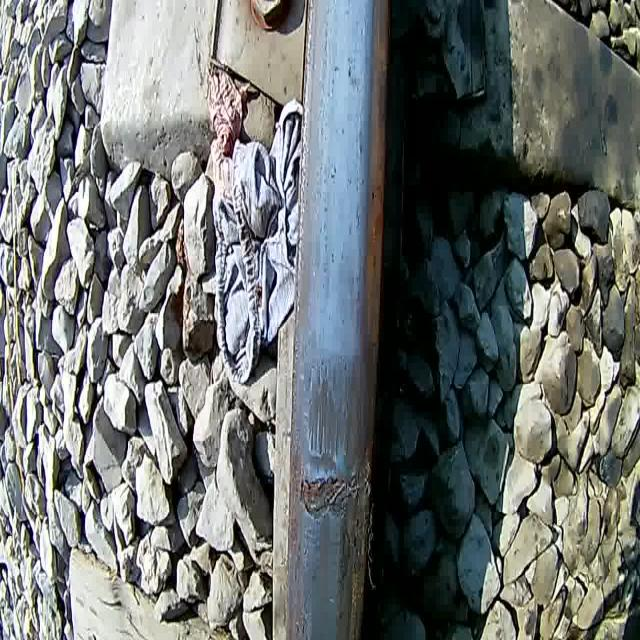Spallings: (294, 469, 378, 523)
Squats: (295, 346, 377, 475)
